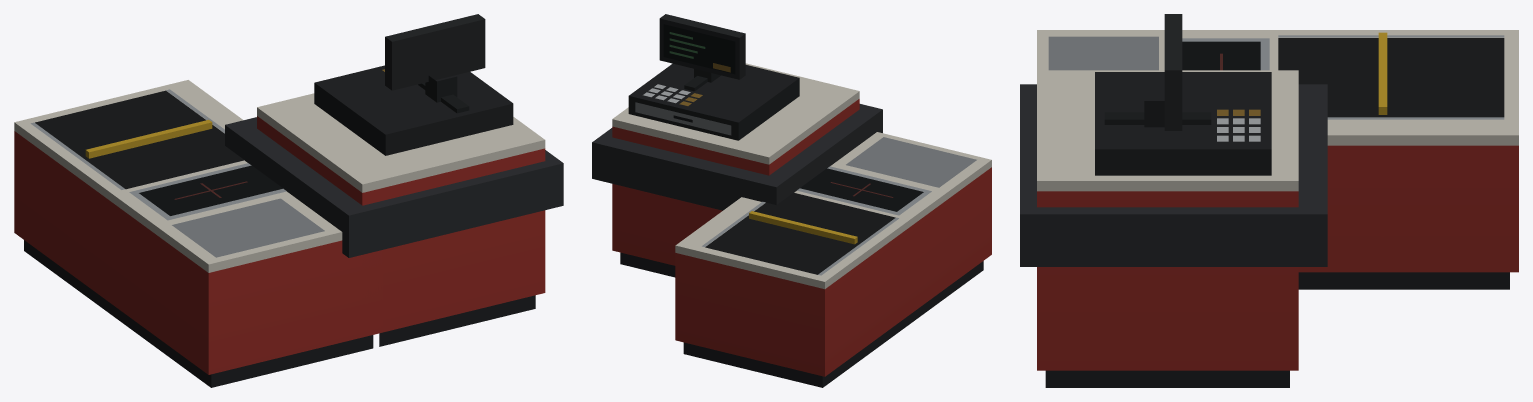
The model's file is shop.checkout.red.glb.
The picture shows the model from 3 angles, left to right: view 1: azimuth 30°, elevation 25°; view 2: azimuth 150°, elevation 25°; view 3: azimuth 270°, elevation 25°; orthographic projection. The views are drawn at different scales.
Visible parts, largest first — view 1: shop_checkout_red; view 2: shop_checkout_red; view 3: shop_checkout_red.
Boxes of the visible parts, <box> form: shop_checkout_red: <box>14,14,563,387</box>; shop_checkout_red: <box>592,14,991,387</box>; shop_checkout_red: <box>1020,14,1518,387</box>.
Size of what is drawn, in the model's own units: 1.72 by 1.2 by 1.72.
